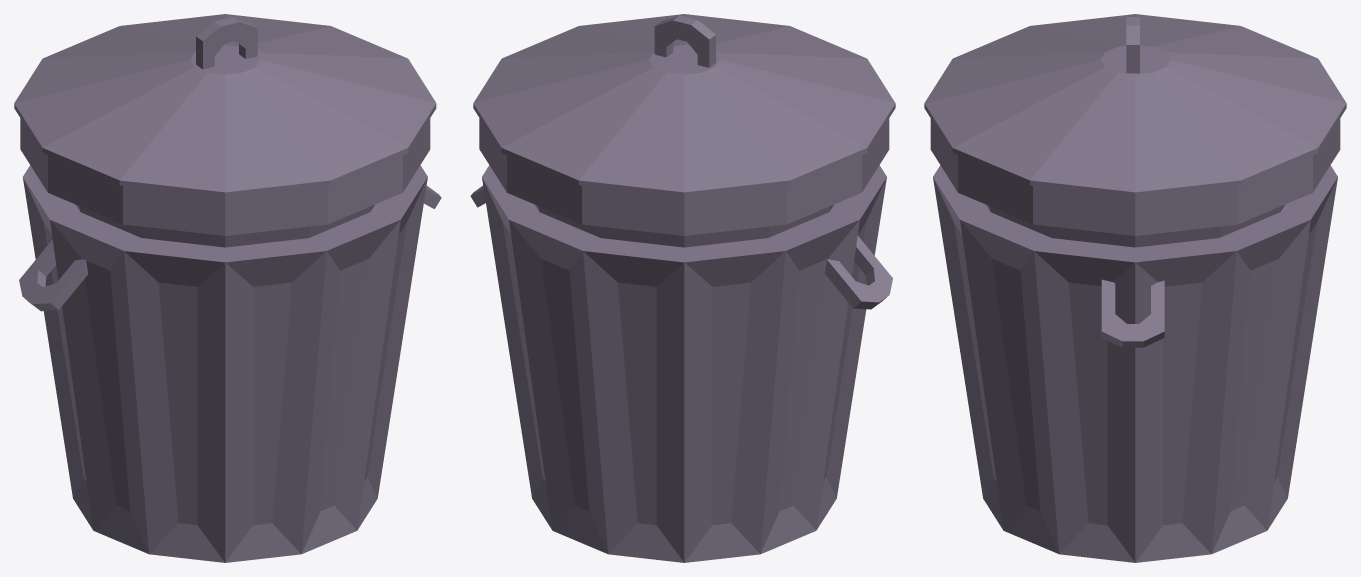
Rendered from trashbin.fbx.
3 renders of one model, left to right at view 1: azimuth 30°, elevation 25°; view 2: azimuth 150°, elevation 25°; view 3: azimuth 270°, elevation 25°, orthographic.
Visible parts, largest first — view 1: Cube.001; view 2: Cube.001; view 3: Cube.001.
Boxes of the visible parts, left/top/right/bottom form: Cube.001: left=14, top=14, right=441, bottom=562; Cube.001: left=470, top=14, right=895, bottom=562; Cube.001: left=924, top=14, right=1346, bottom=562.
Bounding box in the file's own units: 308 × 346 × 277.
